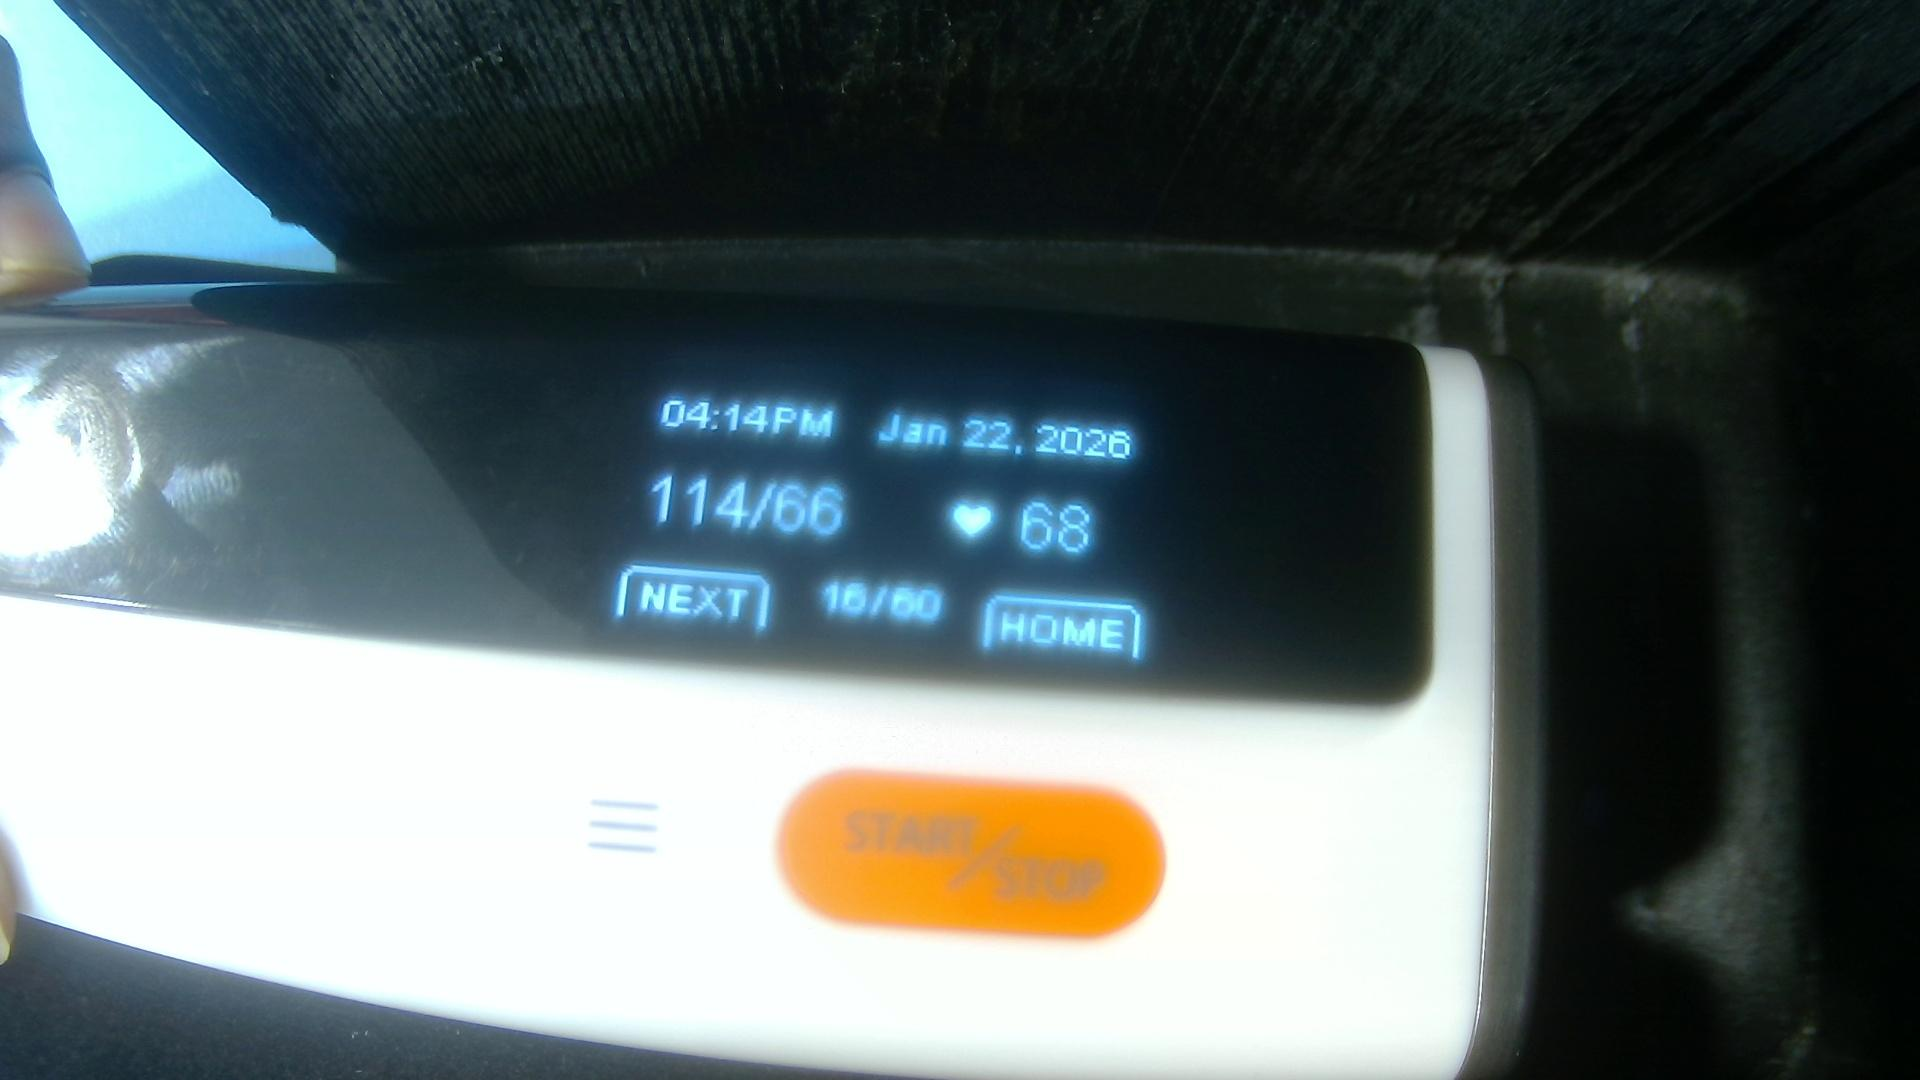DISPLAY: (29, 290, 1416, 702)
